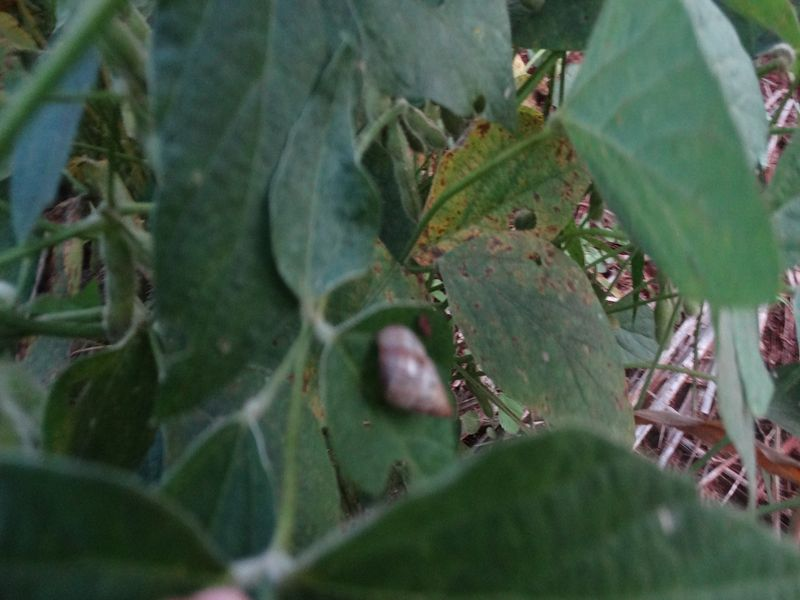Gastropoda: (351, 318, 469, 422)
